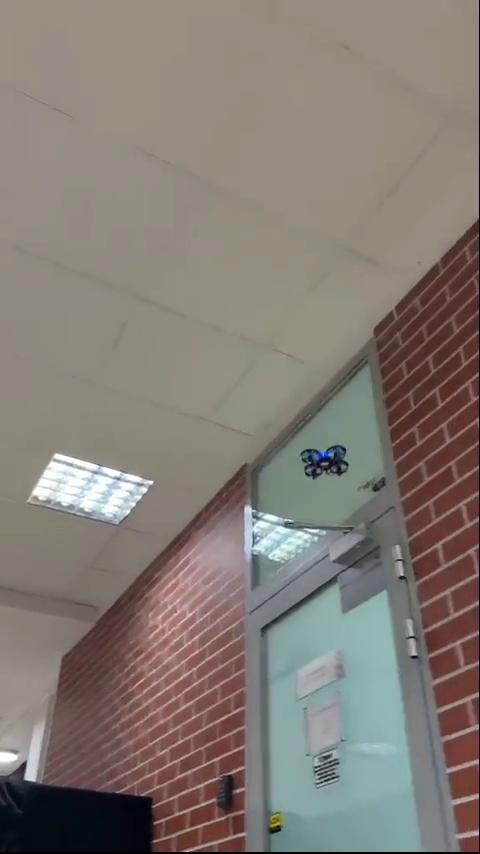drone: (295, 448, 349, 479)
